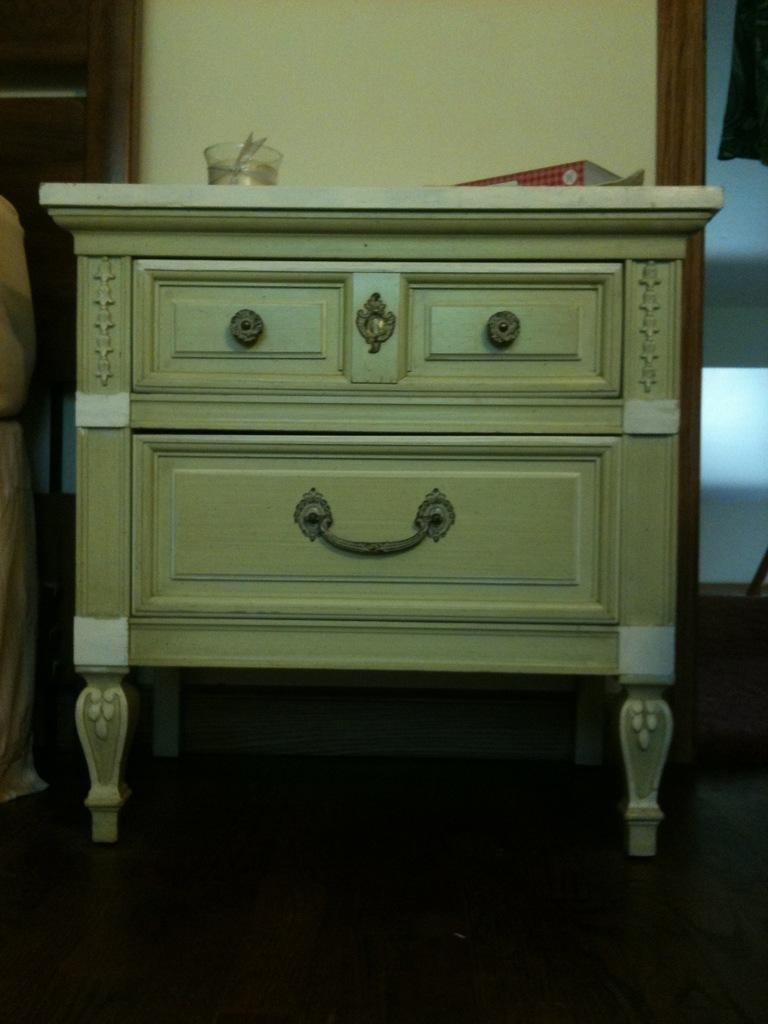cabinet_door: (138, 436, 610, 608), (134, 272, 346, 377), (408, 286, 608, 380)
handle: (302, 490, 442, 564), (228, 308, 262, 352), (487, 306, 518, 352)
